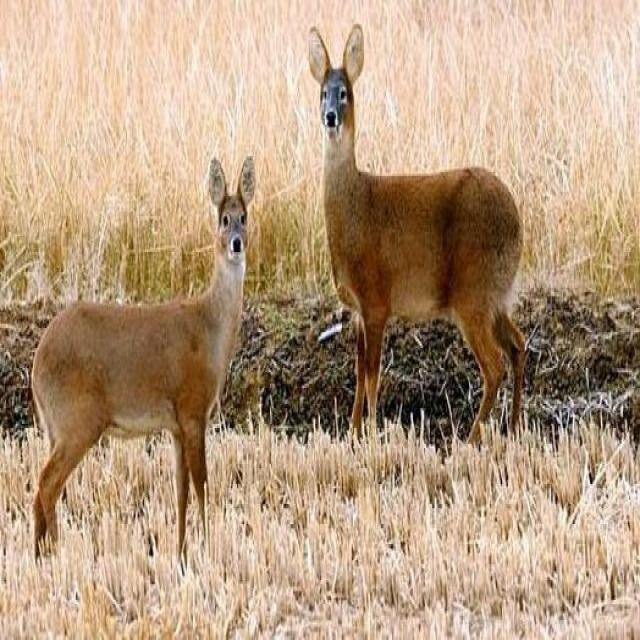deer: (294, 24, 552, 491), (22, 151, 266, 585)
